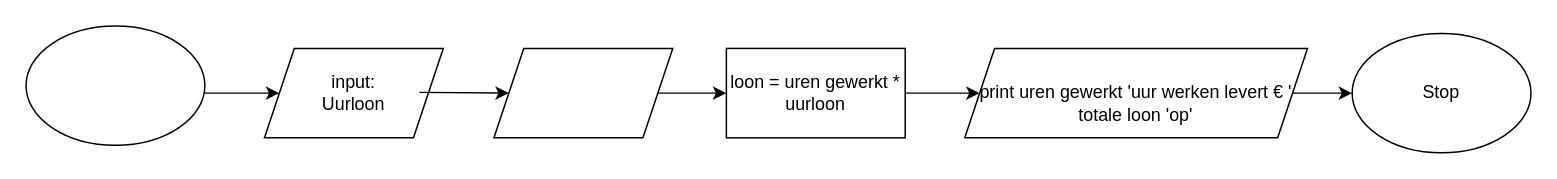
This 1557x179 diagram has some shape labels left out. Here are the shapes that lost their labels. From the top down, the centre of each, then its label:
At (x=115, y=85): "Start".
At (x=582, y=92): "input: Uren gewerkt".
